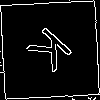K: (25, 25, 82, 81)
